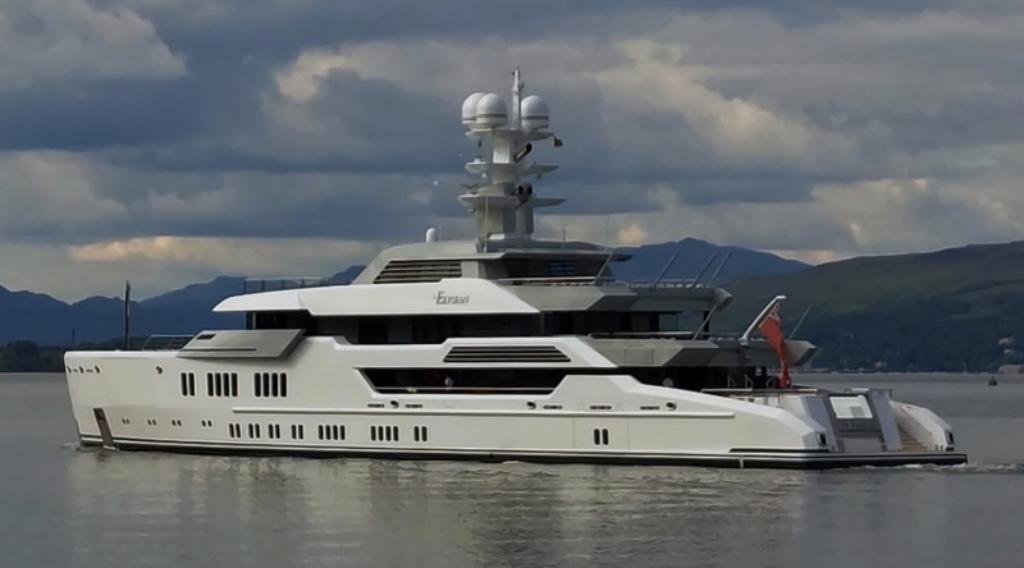PassengerShip: (62, 62, 970, 472)
